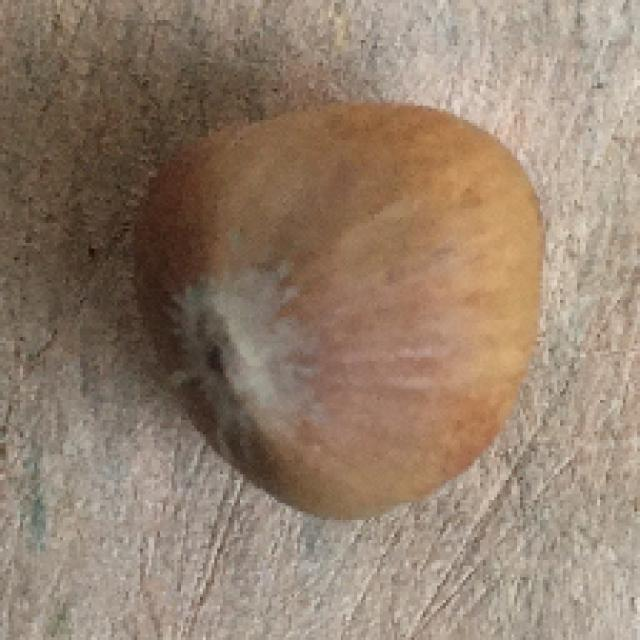damagedHazelnut: (126, 94, 550, 519)
